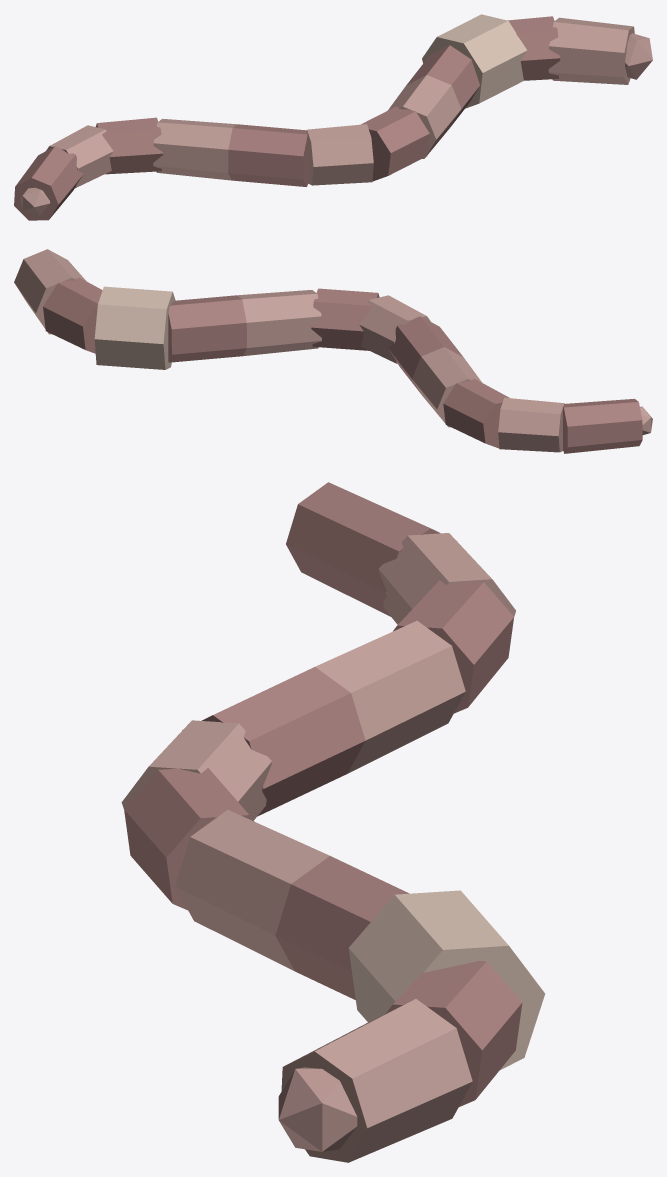
The picture shows the model from 3 angles, top to bottom: view 1: azimuth 30°, elevation 25°; view 2: azimuth 150°, elevation 25°; view 3: azimuth 270°, elevation 25°; orthographic projection. The views are drawn at different scales.
Visible parts, largest first — view 1: part11, part0, part6, part7, part5, part4, part10, part8, part3, part1, part2, part9 (+2 smaller); view 2: part11, part2, part3, part10, part9, part1, part4, part8, part7, part0, part5, part6; view 3: part0, part11, part3, part7, part6, part10, part2, part1, part4, part8, part5, part9 (+1 smaller).
Boxes of the visible parts, x1,y1,x2,y2 form: part11: (422, 14, 527, 108); part0: (548, 17, 634, 84); part6: (228, 124, 308, 186); part7: (153, 118, 236, 180); part5: (306, 124, 373, 185); part4: (361, 106, 429, 181); part10: (14, 146, 83, 220); part8: (95, 117, 163, 174); part3: (388, 75, 461, 158); part1: (507, 16, 560, 80); part2: (406, 45, 479, 128); part9: (46, 125, 113, 188); part11: (94, 286, 175, 369); part2: (168, 295, 246, 362); part3: (237, 290, 321, 356); part10: (563, 398, 642, 453); part9: (498, 397, 564, 452); part1: (43, 277, 102, 353); part4: (311, 288, 379, 350); part8: (443, 379, 509, 448); part7: (412, 347, 482, 427); part0: (14, 249, 86, 334); part5: (359, 295, 430, 364); part6: (388, 316, 463, 395); part0: (281, 999, 472, 1162); part11: (348, 890, 544, 1069); part3: (175, 810, 329, 971); part7: (315, 620, 465, 773); part6: (182, 667, 365, 816); part10: (286, 482, 457, 616); part2: (275, 856, 409, 1000); part1: (386, 961, 522, 1106); part4: (124, 768, 254, 910); part8: (393, 580, 513, 713); part5: (121, 720, 271, 820); part9: (378, 533, 515, 624).
Size of the model in its own units: 6.22 by 0.6767 by 1.82.
